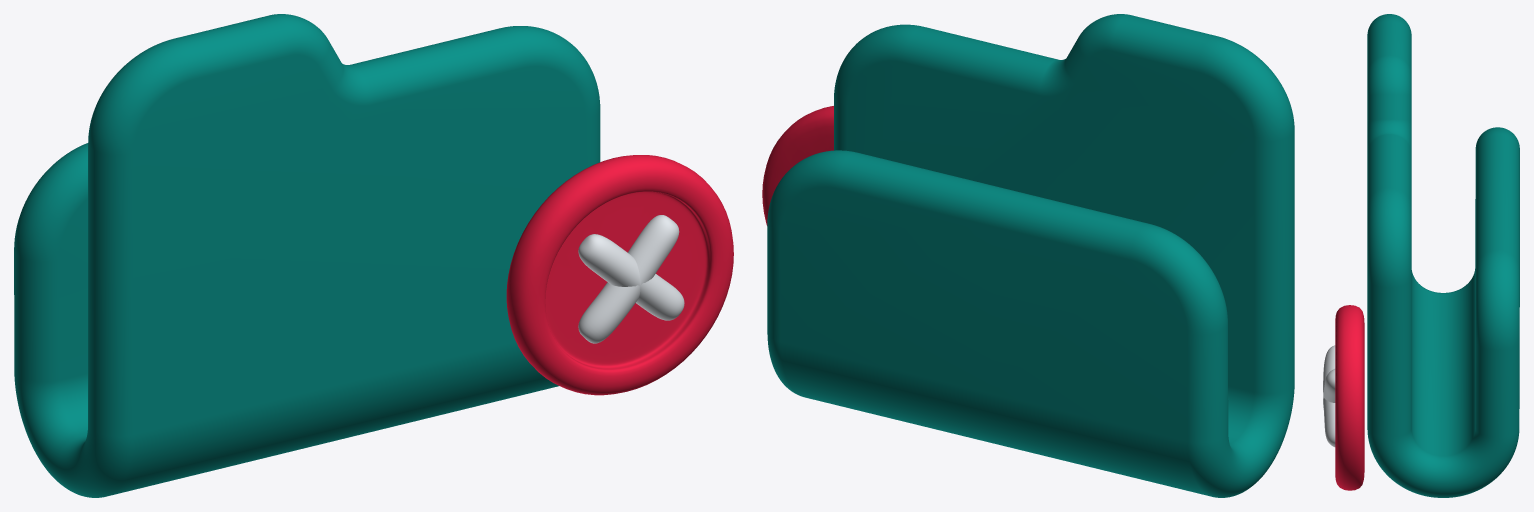
File: empty-folder-3d-animated-icon-667651253662.glb
3 views of the same model, side by side, from view 1: azimuth 30°, elevation 25°; view 2: azimuth 150°, elevation 25°; view 3: azimuth 270°, elevation 25° (orthographic). The views are drawn at different scales.
Parts seen in each view (by area): view 1: FOLDER, X SIGN, X.001; view 2: FOLDER, X SIGN; view 3: FOLDER, X SIGN, X.001.
Boxes of the visible parts, x1,y1,x2,y2 form: FOLDER: [14, 14, 600, 497]; X SIGN: [506, 155, 733, 395]; X.001: [578, 215, 684, 343]; FOLDER: [767, 14, 1294, 497]; X SIGN: [762, 106, 833, 225]; FOLDER: [1367, 14, 1519, 497]; X SIGN: [1335, 305, 1364, 490]; X.001: [1323, 345, 1335, 447].
Size of the model in its own units: 1.2 by 0.8641 by 0.4585.
